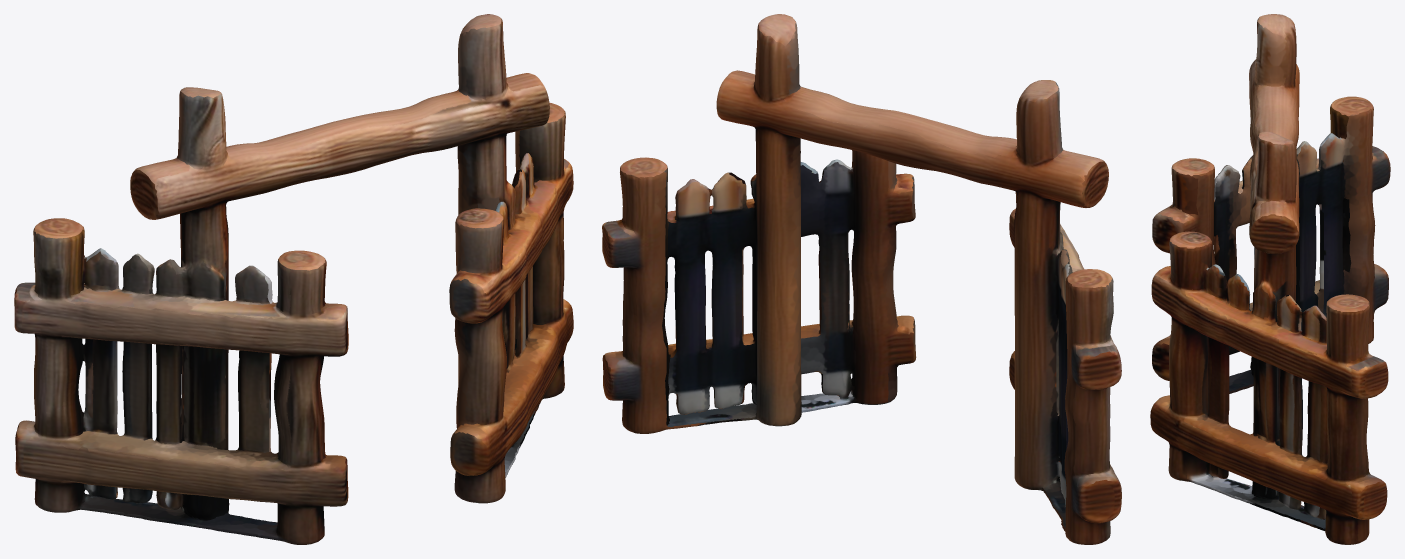
The model's file is tranquera.glb.
The picture shows the model from 3 angles, left to right: view 1: azimuth 30°, elevation 25°; view 2: azimuth 150°, elevation 25°; view 3: azimuth 270°, elevation 25°; orthographic projection. The views are drawn at different scales.
Parts seen in each view (by area): view 1: tmpfud29svy.ply; view 2: tmpfud29svy.ply; view 3: tmpfud29svy.ply.
Part boxes in pixels (x1=…): tmpfud29svy.ply: x1=14, y1=14, x2=573, y2=544; tmpfud29svy.ply: x1=602, y1=14, x2=1121, y2=544; tmpfud29svy.ply: x1=1150, y1=14, x2=1390, y2=544.
Size of the model in its own units: 0.9915 by 0.7271 by 0.4376.
Materials: 1 (1 with a texture image).
